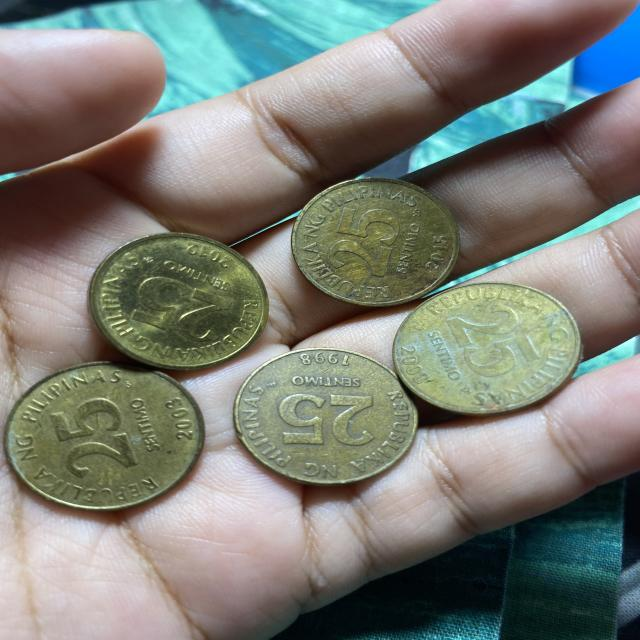25Cent_Old_Front: (50, 399, 141, 475), (129, 276, 232, 340), (449, 307, 539, 378), (275, 390, 382, 448), (332, 207, 403, 276)
